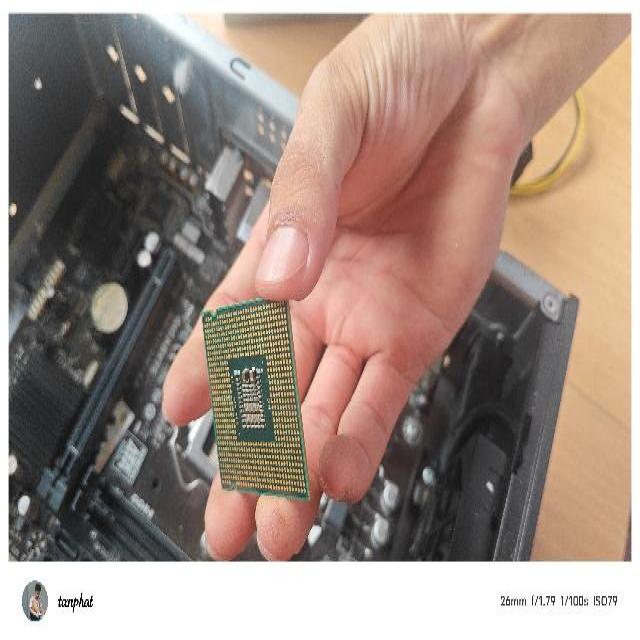CPU: (198, 293, 314, 505)
